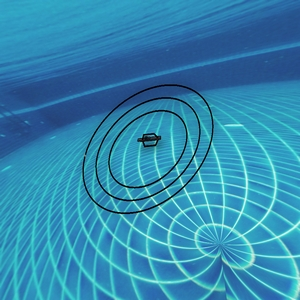circle: (74, 71, 219, 232)
